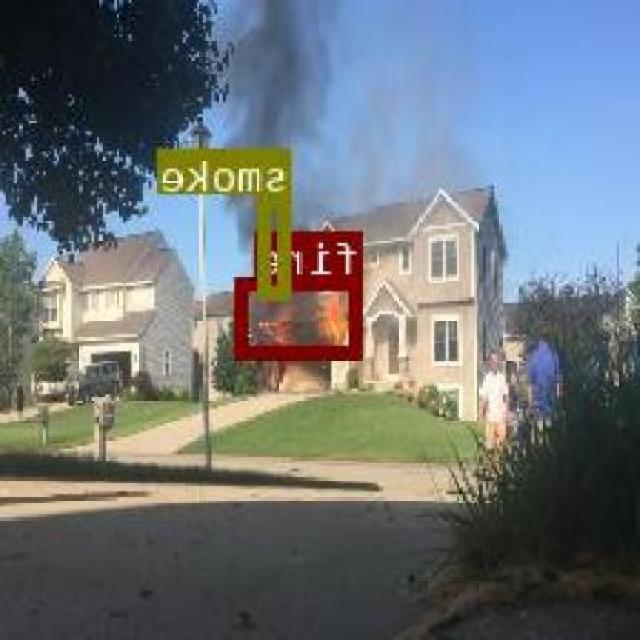Fire: (238, 276, 364, 356)
Smoke: (260, 191, 292, 297)
